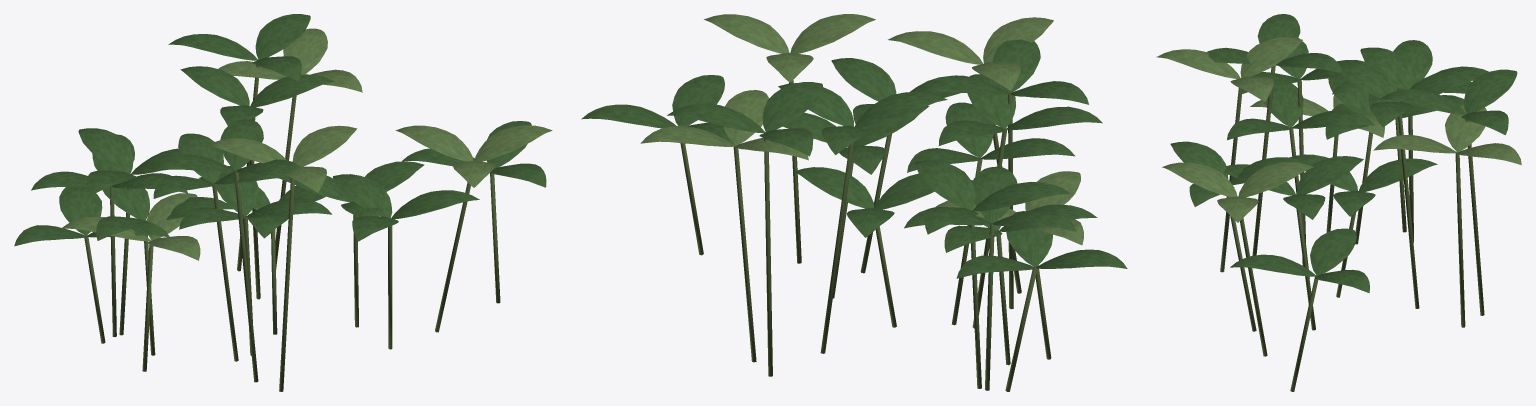
The model's file is v6_trifoliate.glb.
The picture shows the model from 3 angles, left to right: view 1: azimuth 30°, elevation 25°; view 2: azimuth 150°, elevation 25°; view 3: azimuth 270°, elevation 25°; orthographic projection. The views are drawn at different scales.
Visible parts, largest first — view 1: forest_leaf_surface, forest_new_leaf_surface, forest_flexible_stem_surface; view 2: forest_leaf_surface, forest_new_leaf_surface, forest_flexible_stem_surface; view 3: forest_leaf_surface, forest_new_leaf_surface, forest_flexible_stem_surface.
Boxes of the visible parts, left/top/right/bottom form: forest_leaf_surface: left=14, top=14, right=546, bottom=246; forest_new_leaf_surface: left=61, top=28, right=552, bottom=260; forest_flexible_stem_surface: left=84, top=65, right=500, bottom=391; forest_leaf_surface: left=581, top=39, right=1127, bottom=278; forest_new_leaf_surface: left=640, top=14, right=1083, bottom=245; forest_flexible_stem_surface: left=680, top=80, right=1051, bottom=391; forest_leaf_surface: left=1170, top=14, right=1517, bottom=293; forest_new_leaf_surface: left=1156, top=37, right=1521, bottom=222; forest_flexible_stem_surface: left=1220, top=65, right=1484, bottom=391.
Bounding box in the file's own units: 0.7777 × 0.3417 × 0.5028.
3 materials, 3 textured.
